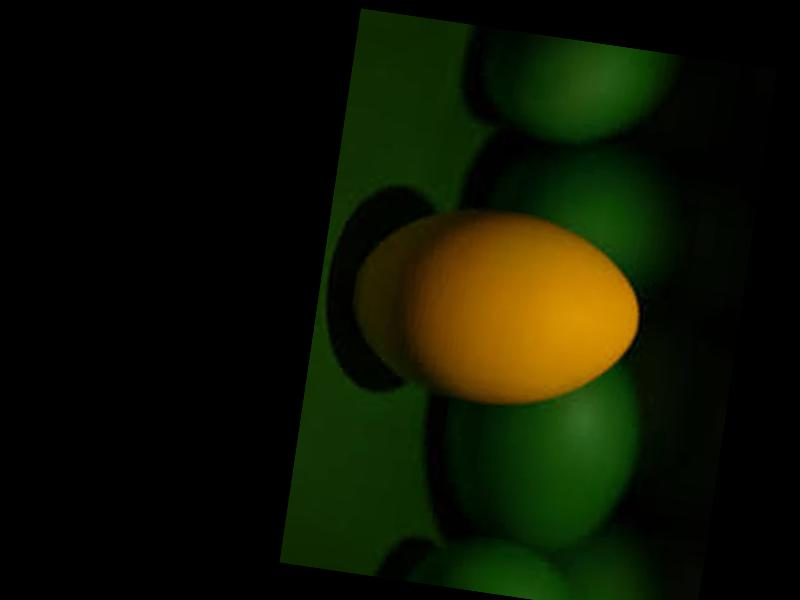Eggs: (340, 191, 650, 423)
